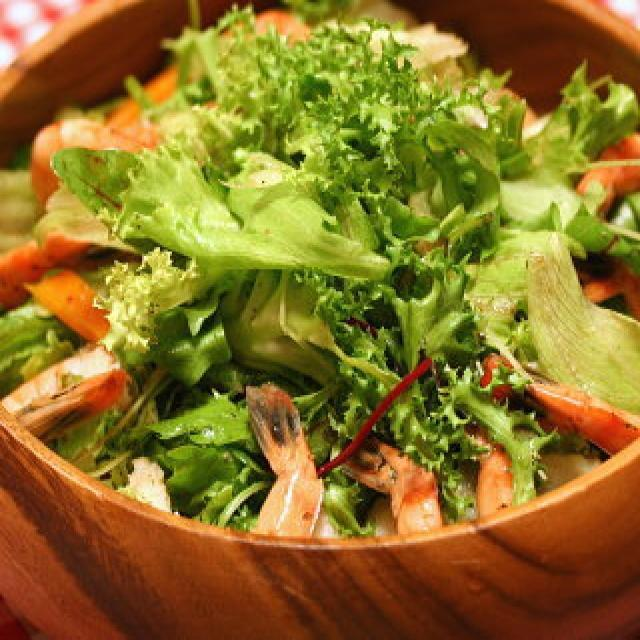Green Salad: (40, 20, 625, 525)
